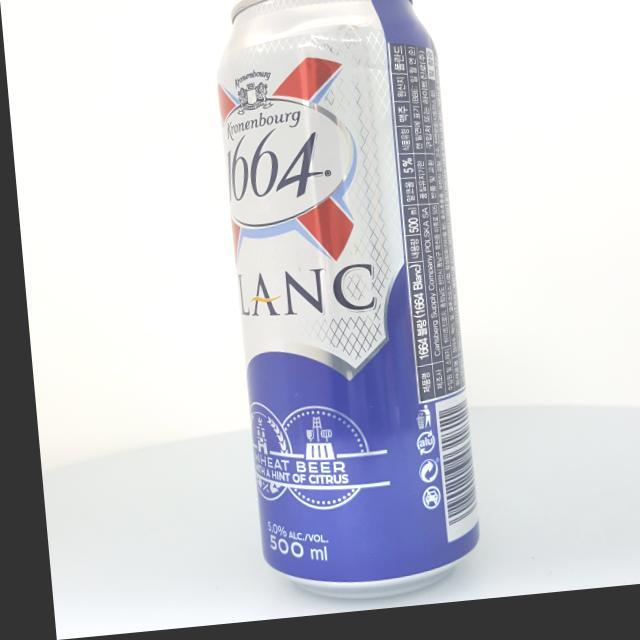beer-can: (208, 0, 473, 613)
